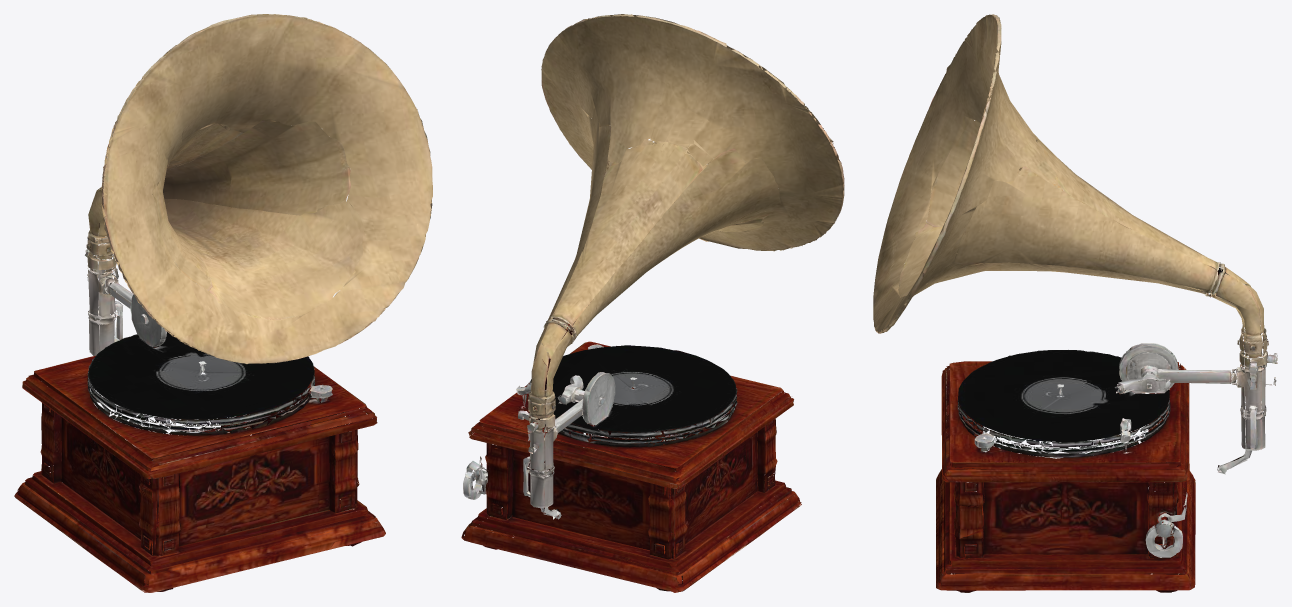
Rendered from gramophone.glb.
The picture shows the model from 3 angles, left to right: view 1: azimuth 30°, elevation 25°; view 2: azimuth 150°, elevation 25°; view 3: azimuth 270°, elevation 25°; orthographic projection. The views are drawn at different scales.
Visible parts, largest first — view 1: gramophone; view 2: gramophone; view 3: gramophone.
Boxes of the visible parts, x1,y1,x2,y2 form: gramophone: (14,14,432,592); gramophone: (461,14,844,592); gramophone: (873,14,1277,592).
Size of the model in its own units: 0.6384 by 1 by 0.7203.
Materials: 1 (1 with a texture image).
